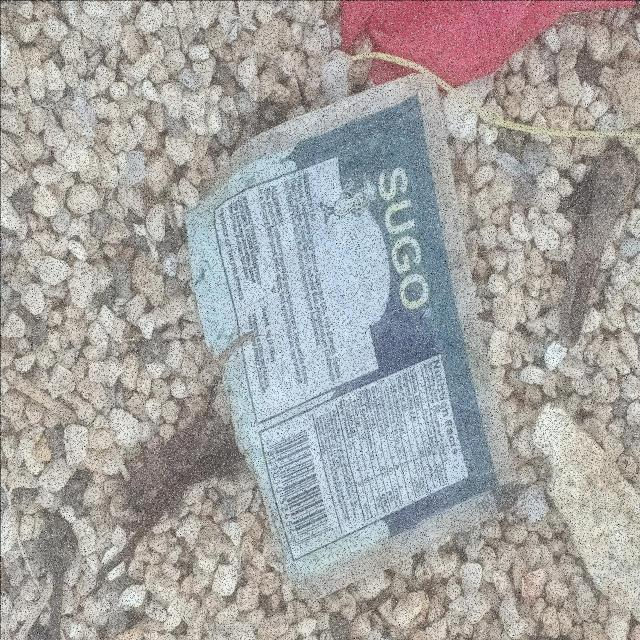plastic_waste: (185, 74, 523, 604)
